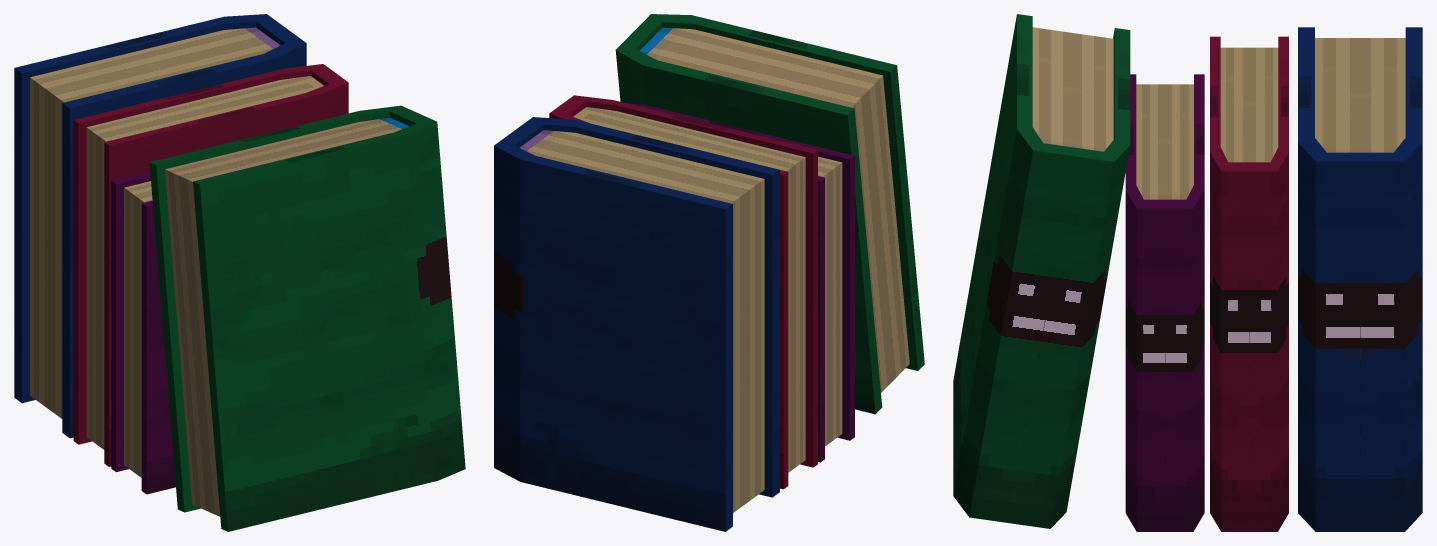
The model's file is E_Books.fbx.
3 views of the same model, side by side, from view 1: azimuth 30°, elevation 25°; view 2: azimuth 150°, elevation 25°; view 3: azimuth 270°, elevation 25° (orthographic). The views are drawn at different scales.
Parts seen in each view (by area): view 1: Cube.011; view 2: Cube.011; view 3: Cube.011.
Boxes of the visible parts, x1,y1,x2,y2 form: Cube.011: (14, 14, 465, 531); Cube.011: (494, 14, 924, 531); Cube.011: (953, 14, 1422, 531).
Bounding box in the file's own units: 38.59 × 50.82 × 55.92.
